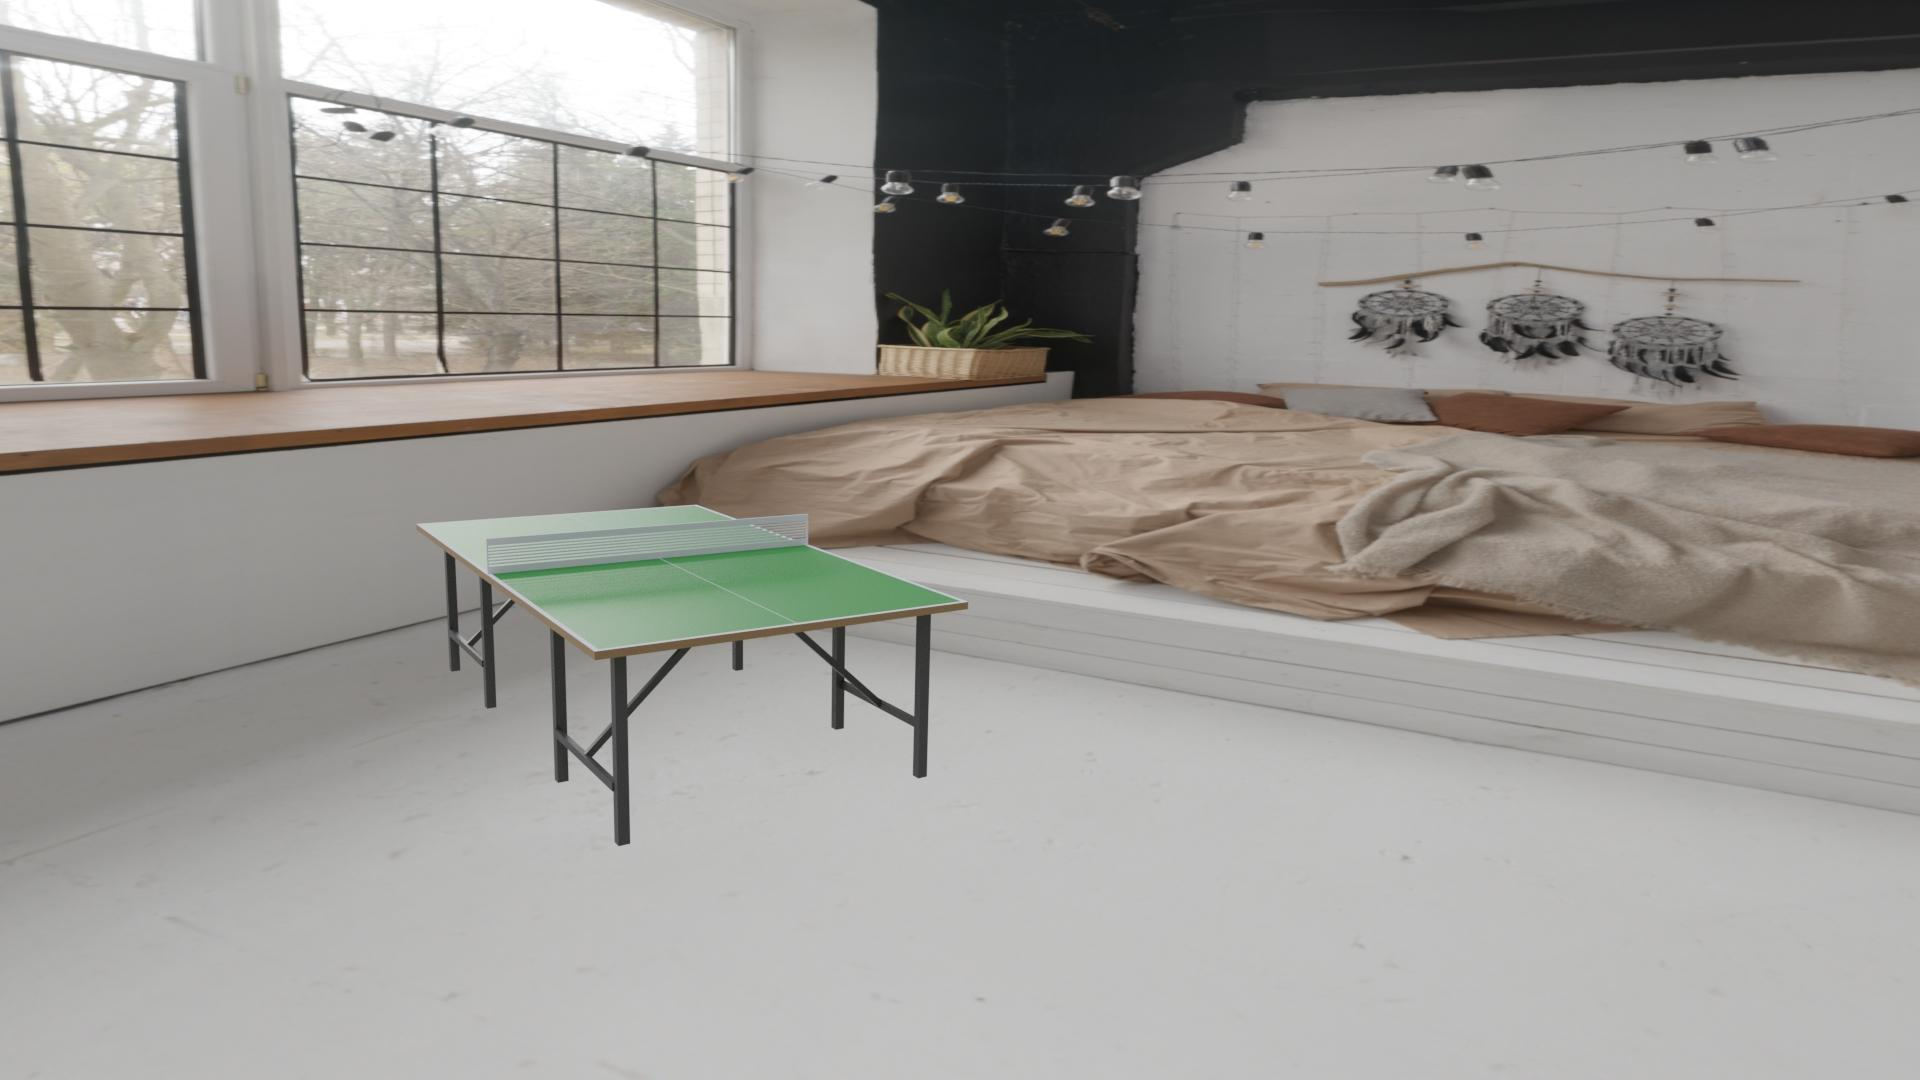table: (421, 505, 961, 649)
